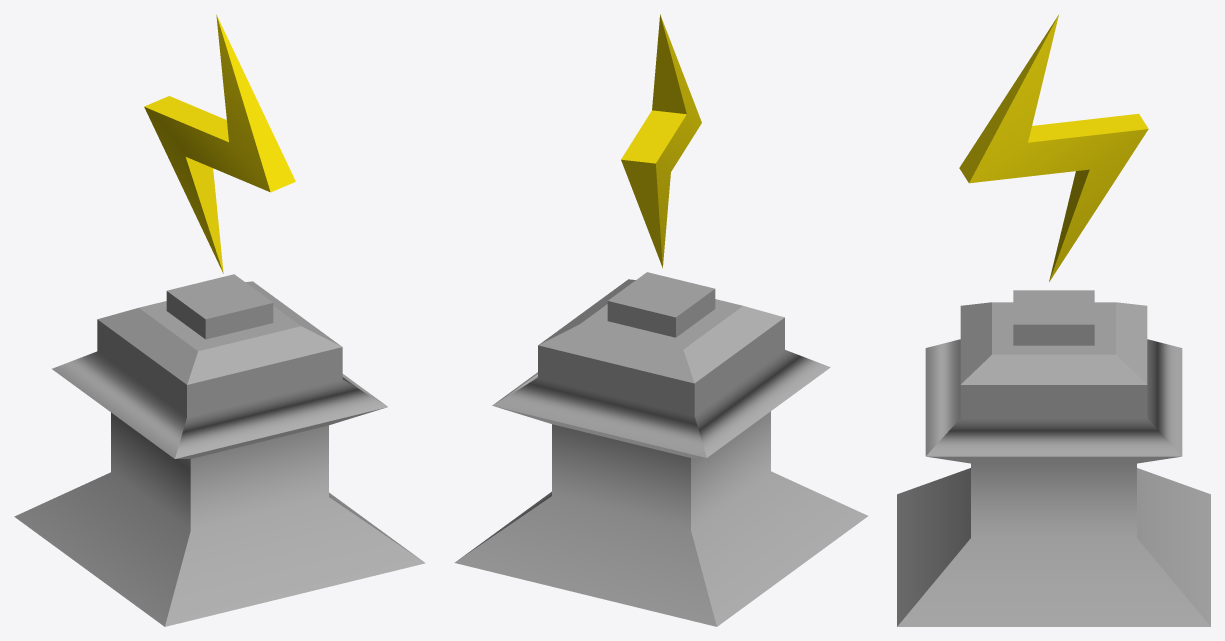
Rendered from battery2.fbx.
The picture shows the model from 3 angles, left to right: view 1: azimuth 30°, elevation 25°; view 2: azimuth 150°, elevation 25°; view 3: azimuth 270°, elevation 25°; orthographic projection. The views are drawn at different scales.
Visible parts, largest first — view 1: denchi:pCube1, e:pCube1; view 2: denchi:pCube1, e:pCube1; view 3: denchi:pCube1, e:pCube1.
Boxes of the visible parts, x1,y1,x2,y2 form: denchi:pCube1: [14, 274, 425, 626]; e:pCube1: [144, 14, 295, 273]; denchi:pCube1: [454, 272, 867, 626]; e:pCube1: [621, 14, 701, 268]; denchi:pCube1: [897, 290, 1210, 626]; e:pCube1: [959, 15, 1148, 281].
Size of the model in its own units: 8.4 by 16.12 by 8.4.
